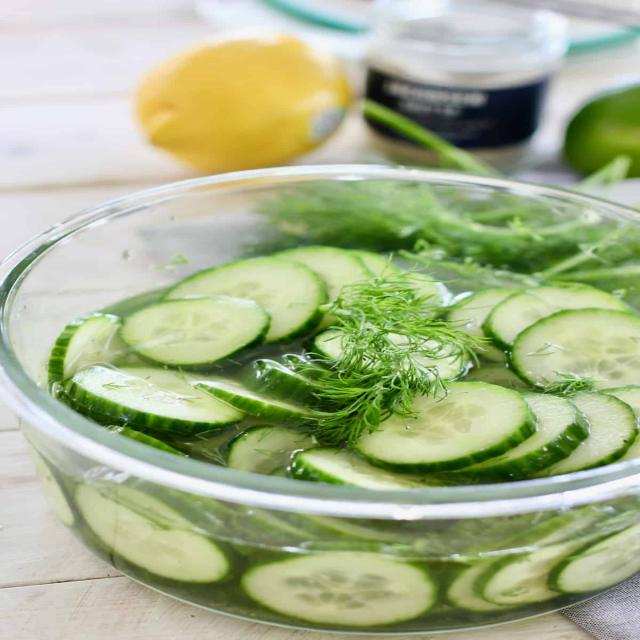Pickle: (354, 381, 536, 472), (75, 485, 229, 582), (242, 551, 437, 627), (165, 256, 326, 342), (437, 392, 589, 482), (66, 366, 244, 434), (120, 295, 270, 366), (510, 309, 639, 390), (532, 391, 638, 478), (480, 540, 585, 605), (551, 522, 640, 592), (484, 292, 561, 348), (246, 359, 313, 402)
